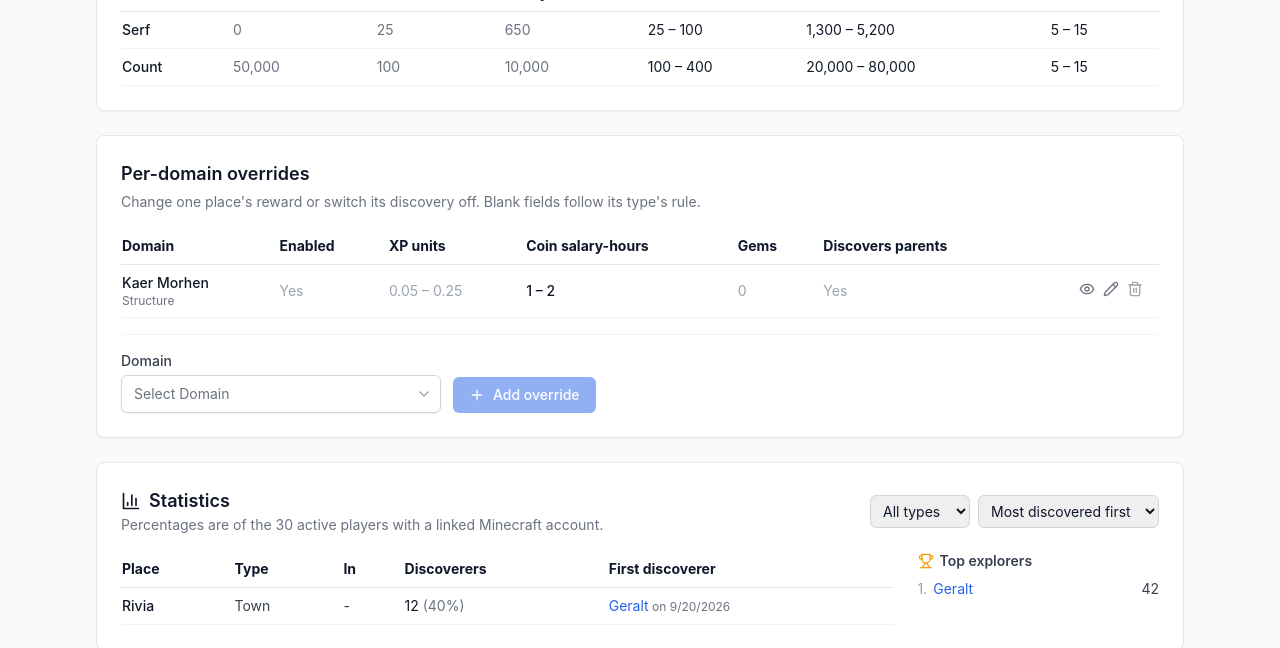
DiscoveryAdminPage › removes an override after confirmation
(page scrolled)
expect the text "Serf" is shown: met, box [121,12,232,48]
expect the text "1 – 2" is shown: met, box [525,264,737,318]
What coordinates should you click on to do the following:
click the button named "Remove Kaer Morhen override"
I would click on:
 (1135, 288)
Its box is [1127,280,1143,296].
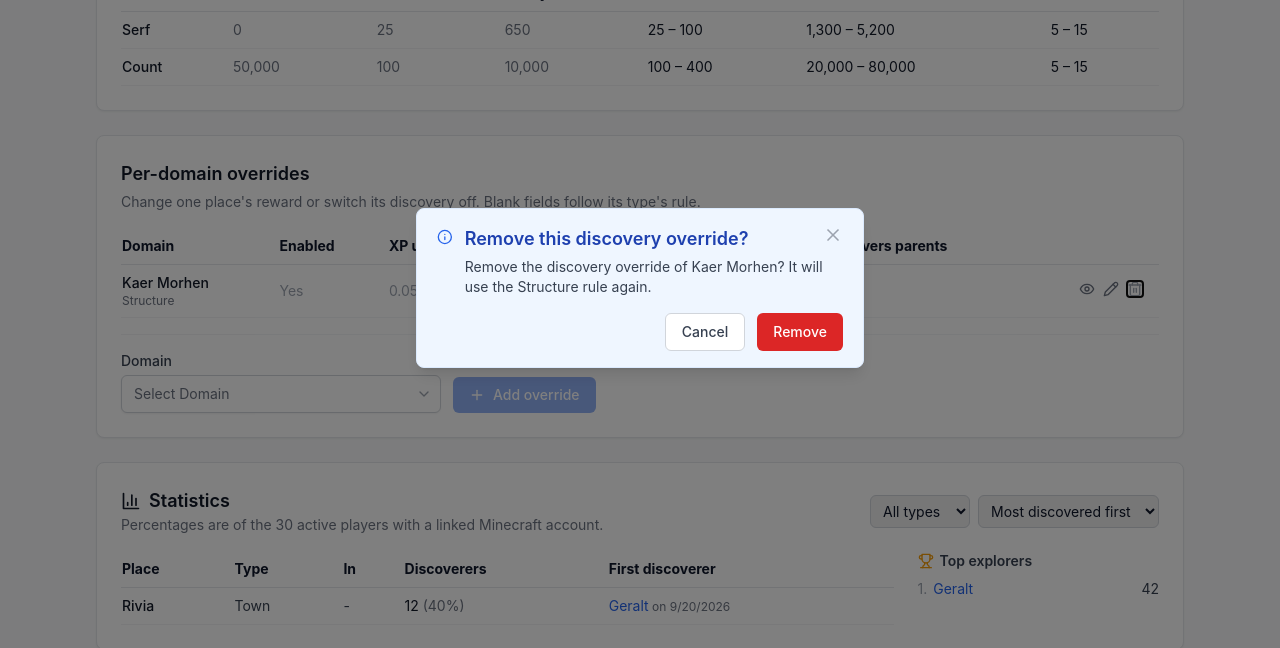
expect the dialog "Remove this discovery override?" shows "Kaer Morhen": met, box [465,258,823,295]
What coordinates should you click on to do the following:
click the button "Remove"
I would click on:
 (800, 332)
Its box is [757,313,843,351].
(page scrolled)
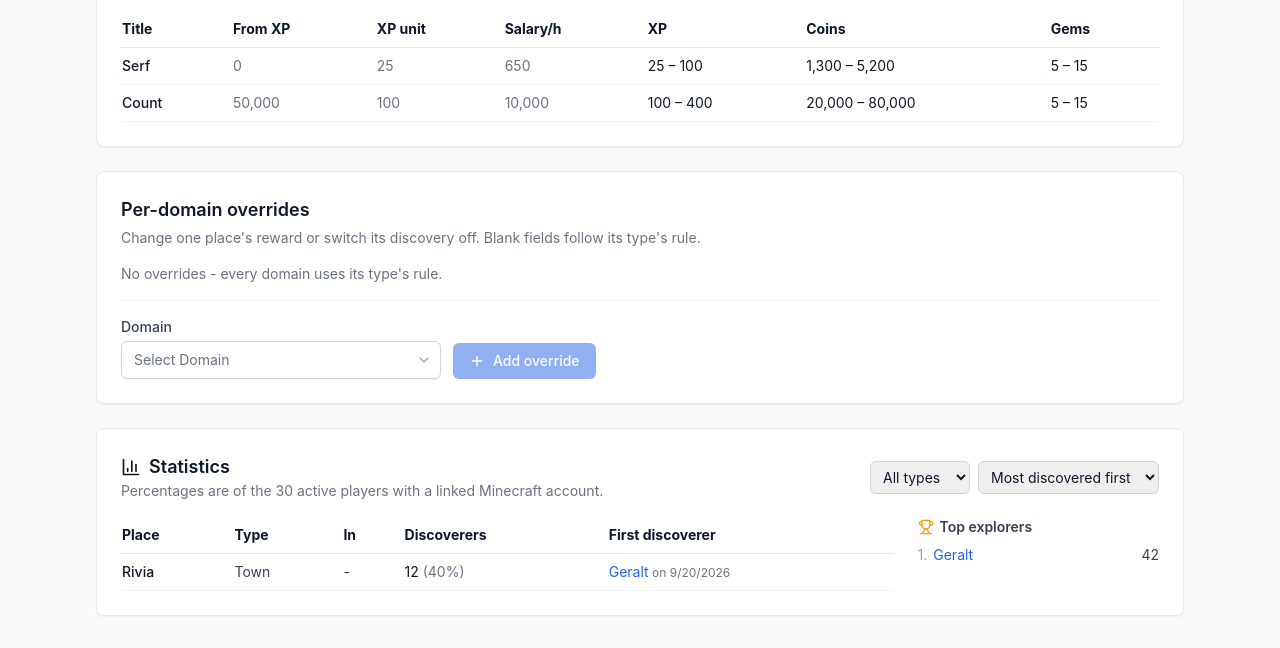
expect the text "No overrides - every domain uses its type's rule." is shown: met, box [121,265,442,282]
